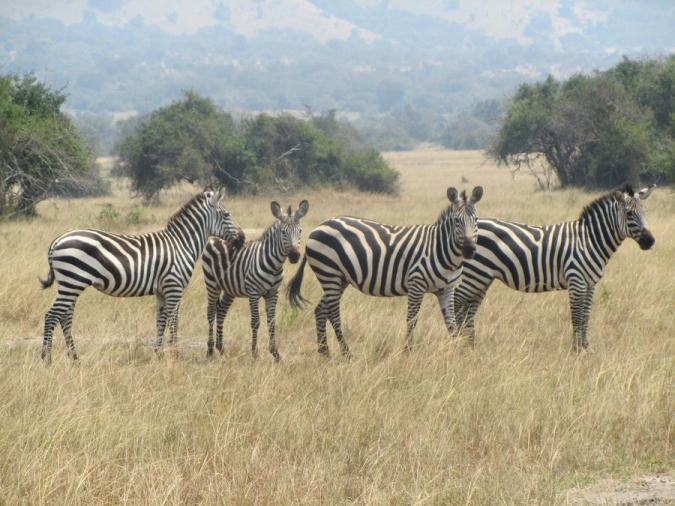zebra: (40, 183, 243, 368), (285, 181, 484, 367), (447, 182, 656, 354), (199, 194, 312, 363)
